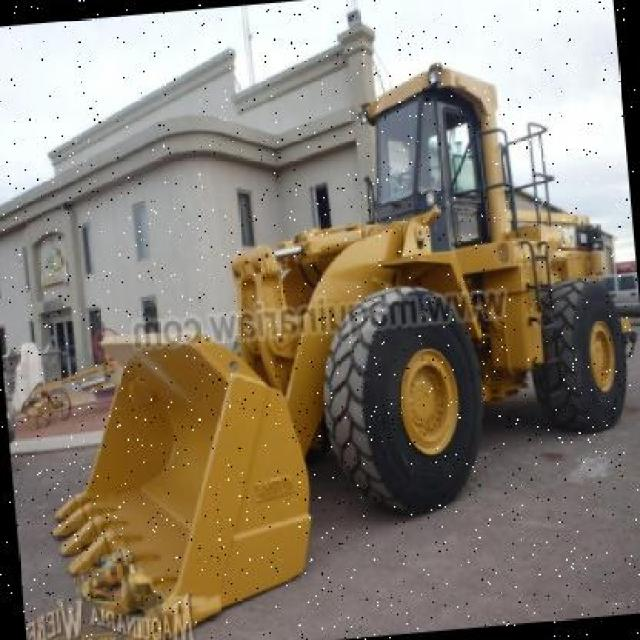buldozerpayloadergrader: (17, 44, 640, 640)
